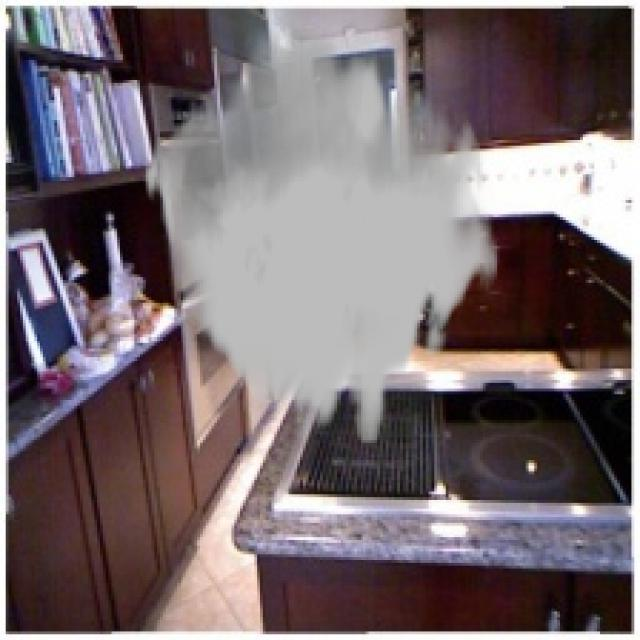Smoke: (143, 28, 500, 443)
